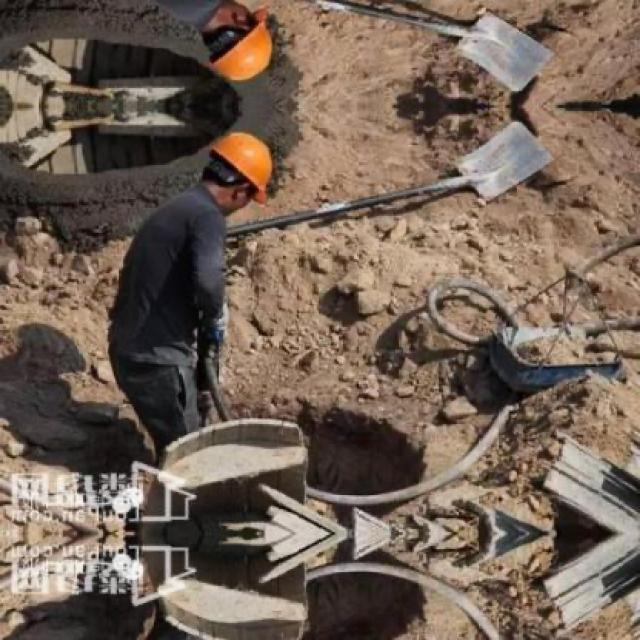con casco: (177, 122, 289, 242)
